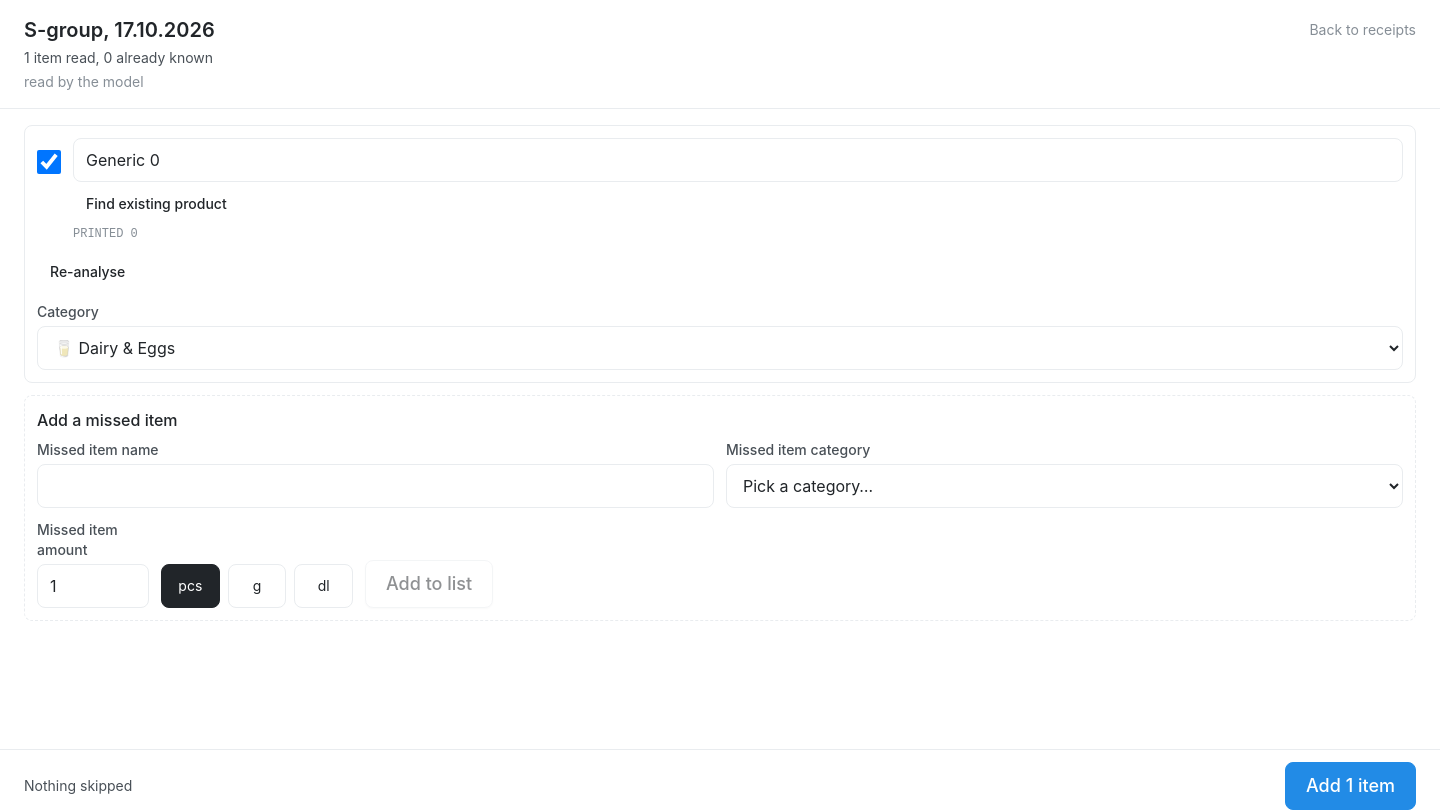
it: ReceiptReviewPage › keeps the page and shows the API message when confirm fails
Expected: the field named "Product name" is shown, [73,138,1403,182]
Step 1. Click the button "Add 1 item" → point(1350, 786), box [1285,762,1416,809]
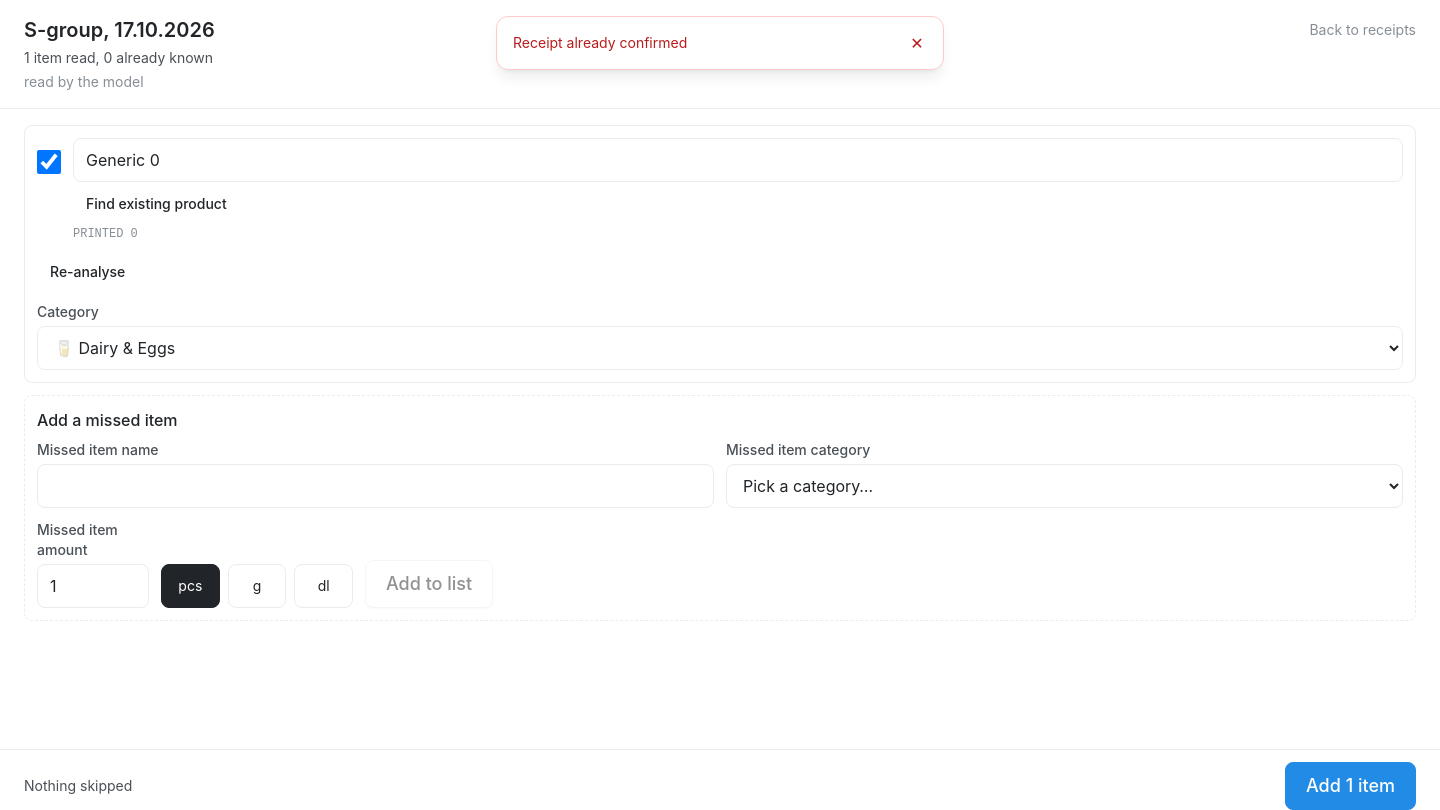
Expected: the text "Receipt already confirmed" is shown, [513,34,687,51]
